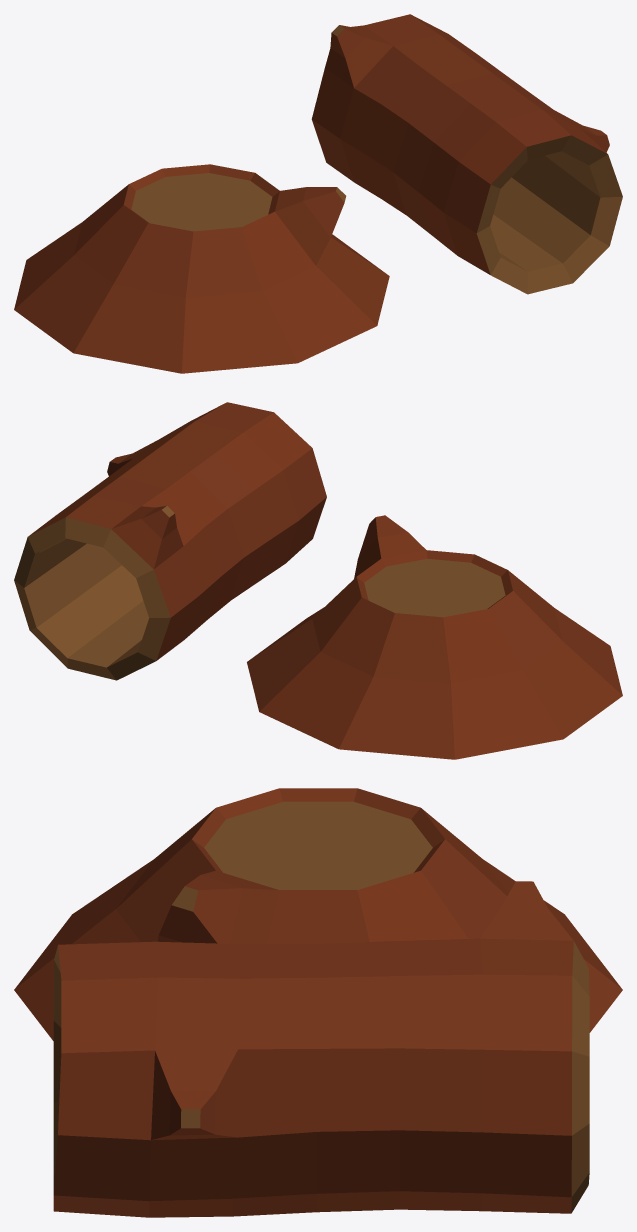
File: Tree 5.fbx
The picture shows the model from 3 angles, top to bottom: view 1: azimuth 30°, elevation 25°; view 2: azimuth 150°, elevation 25°; view 3: azimuth 270°, elevation 25°; orthographic projection. The views are drawn at different scales.
Parts seen in each view (by area): view 1: Cylinder.001; view 2: Cylinder.001; view 3: Cylinder.001.
Part boxes in pixels (left/top/right/bottom): Cylinder.001: left=14, top=14, right=622, bottom=373; Cylinder.001: left=14, top=402, right=622, bottom=759; Cylinder.001: left=14, top=788, right=622, bottom=1217.
Size of the model in its own units: 128 by 201 by 62.85.
